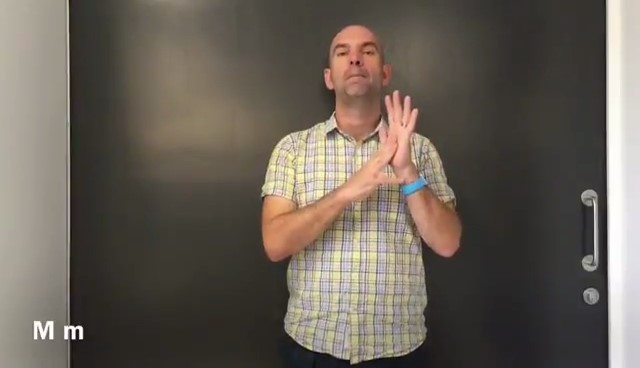M: (357, 86, 425, 204)
